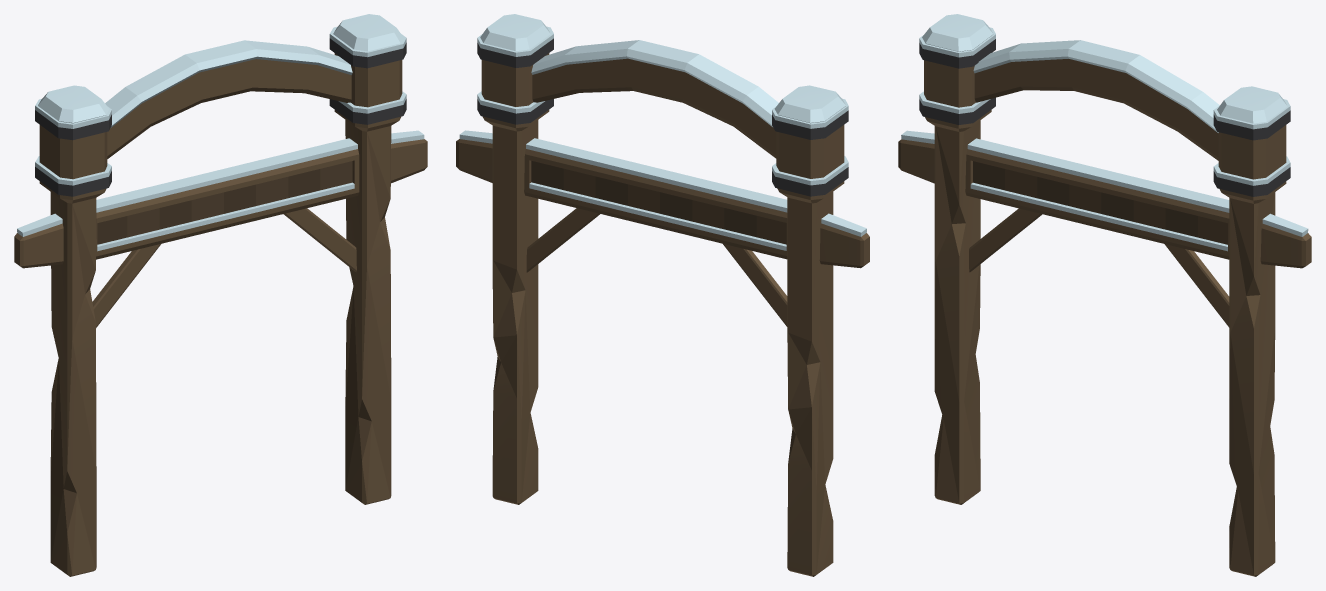
The model's file is Arco_Entrada02.glb.
The picture shows the model from 3 angles, left to right: view 1: azimuth 30°, elevation 25°; view 2: azimuth 150°, elevation 25°; view 3: azimuth 330°, elevation 25°; orthographic projection.
Visible parts, largest first — view 1: SM_Prop_Village_Entrance_01_Snow; view 2: SM_Prop_Village_Entrance_01_Snow; view 3: SM_Prop_Village_Entrance_01_Snow.
Part boxes in pixels (box(x1,y1,x2,y2)): SM_Prop_Village_Entrance_01_Snow: box(14, 14, 427, 576); SM_Prop_Village_Entrance_01_Snow: box(456, 14, 869, 576); SM_Prop_Village_Entrance_01_Snow: box(898, 14, 1311, 576).
Bounding box in the file's own units: 3.4 × 3.83 × 0.4963.
Materials: 1 (1 with a texture image).
